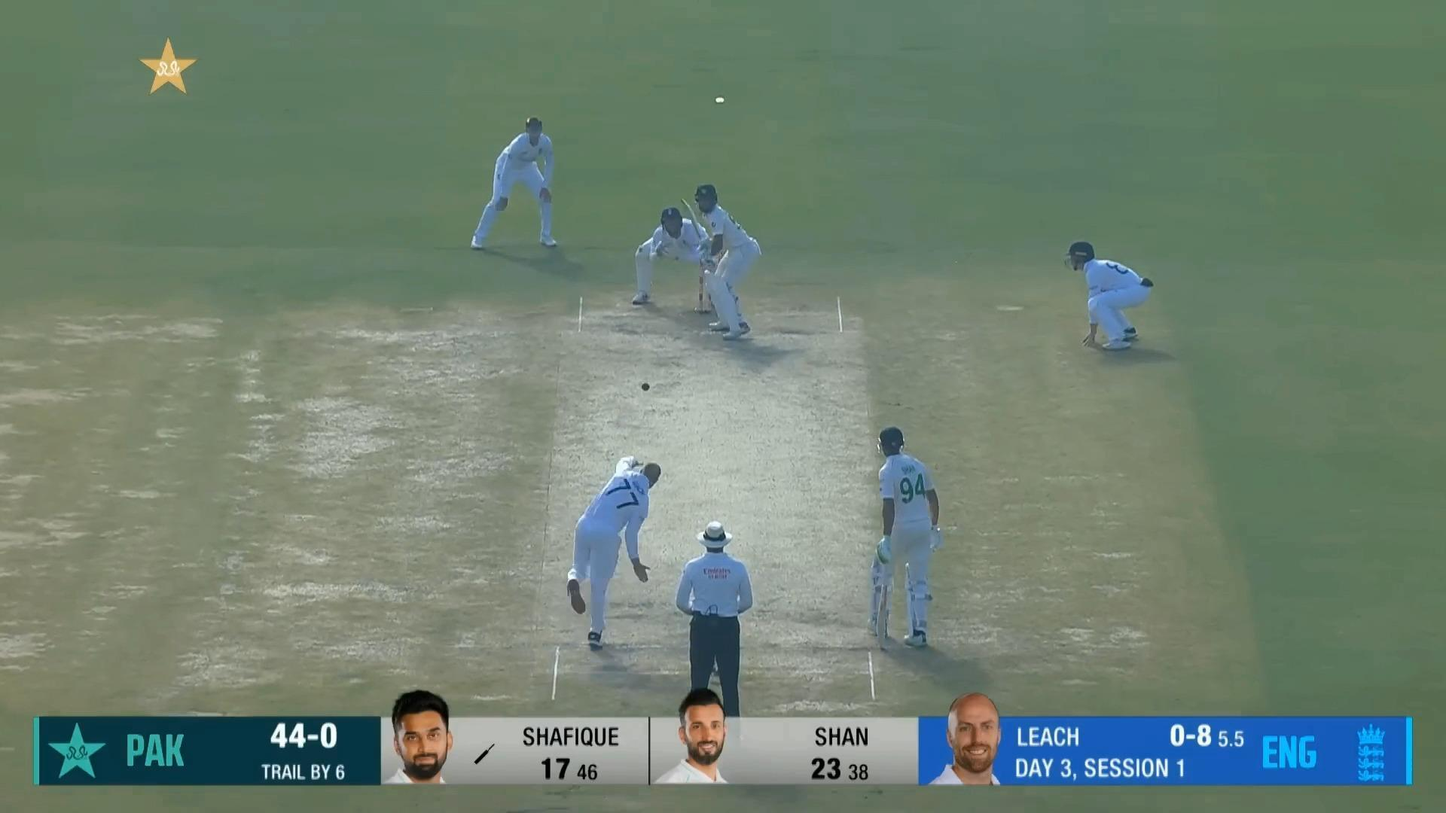BM 1: (680, 182, 763, 341)
BO: (565, 454, 664, 650)
